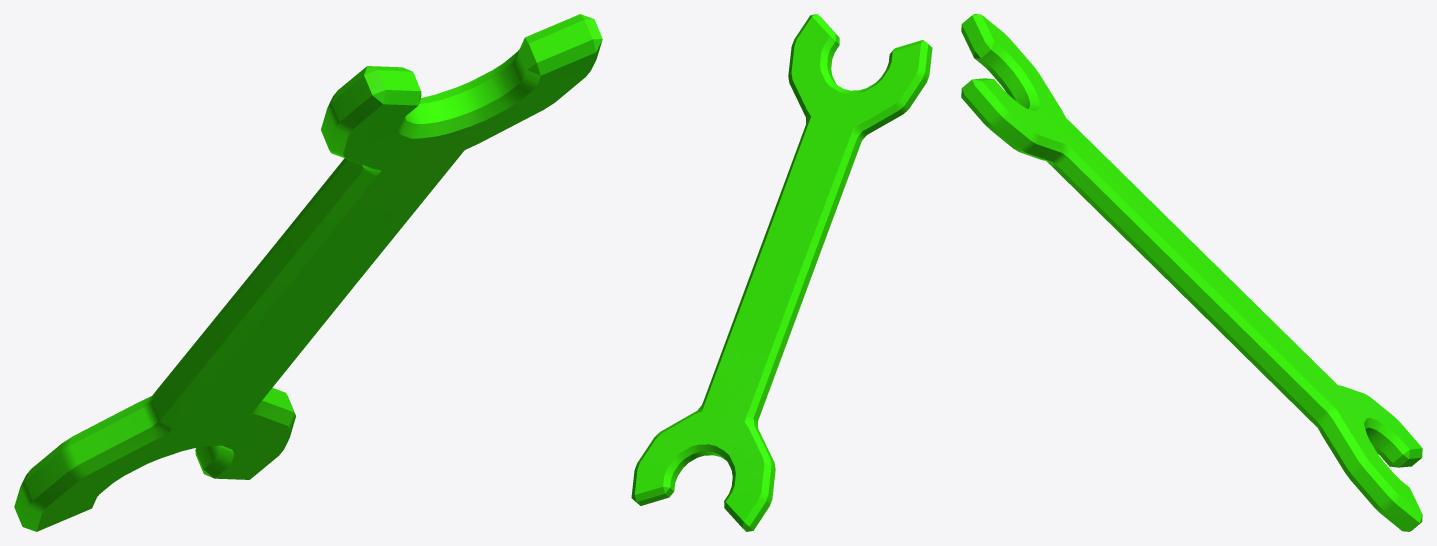
Rendered from HErramienta.dae.
3 renders of one model, left to right at view 1: azimuth 30°, elevation 25°; view 2: azimuth 150°, elevation 25°; view 3: azimuth 270°, elevation 25°, orthographic. The views are drawn at different scales.
Visible parts, largest first — view 1: Herramienta; view 2: Herramienta; view 3: Herramienta.
Part boxes in pixels (x1,y1,x2,y2): Herramienta: [14, 14, 602, 531]; Herramienta: [631, 14, 932, 531]; Herramienta: [961, 14, 1422, 531].
Bounding box in the file's own units: 45.43 × 120 × 111.
